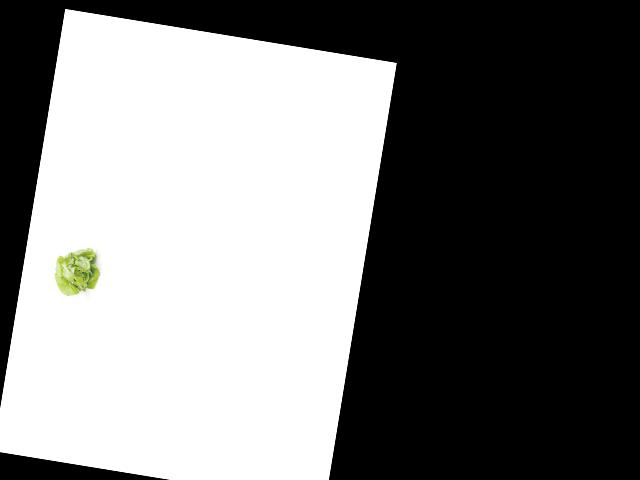lettuce: (47, 241, 106, 301)
